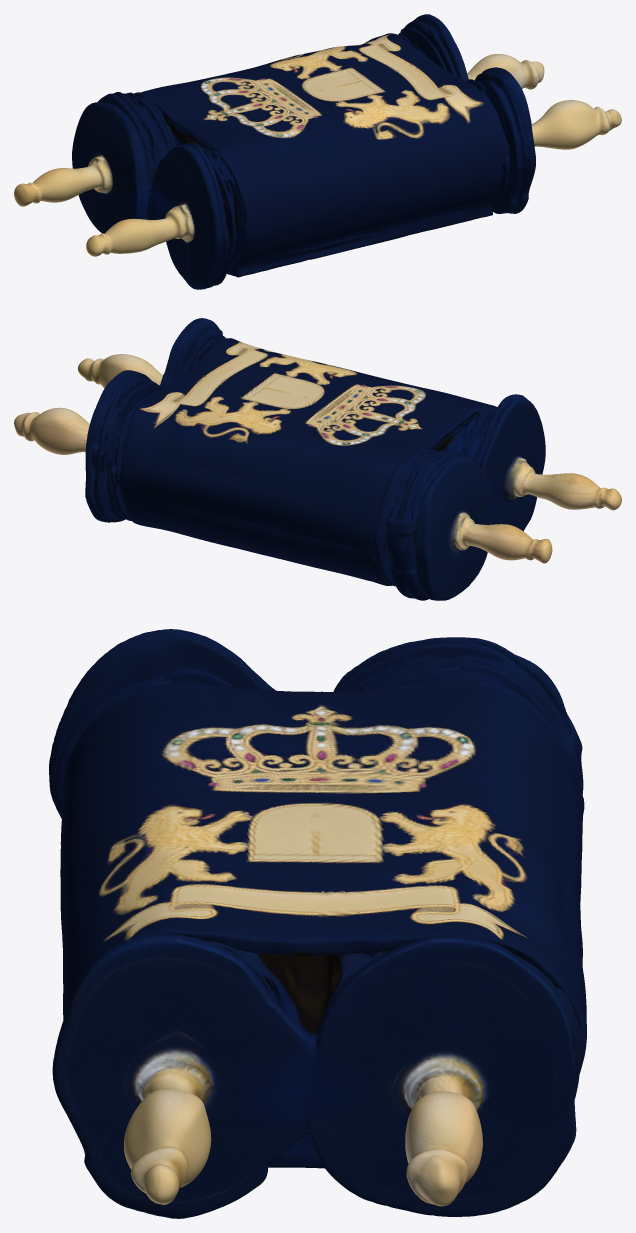
Rendered from torah.glb.
3 renders of one model, top to bottom at view 1: azimuth 30°, elevation 25°; view 2: azimuth 150°, elevation 25°; view 3: azimuth 270°, elevation 25°, orthographic. The views are drawn at different scales.
Bounding box in the file's own units: 2 × 0.5133 × 0.8731.
1 material, 1 textured.
